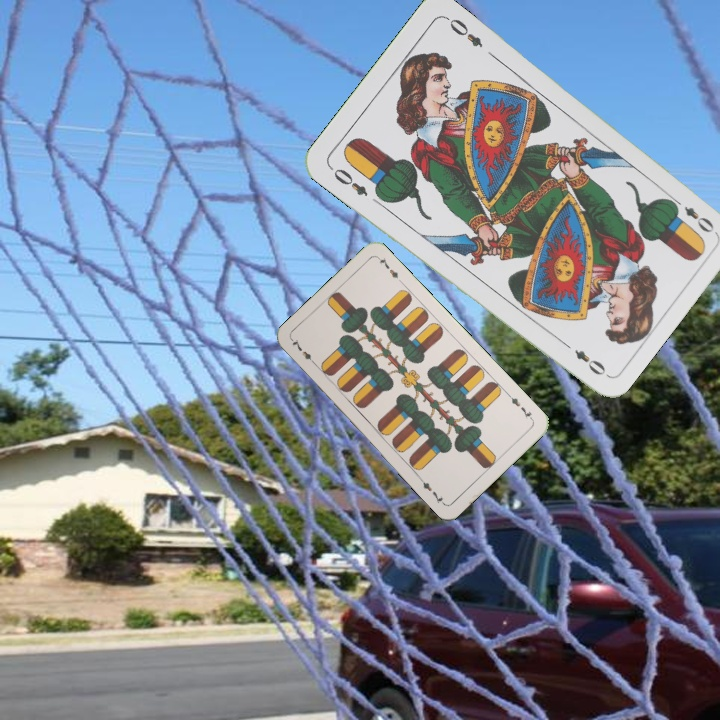E7: (504, 390, 536, 423), (288, 335, 319, 369)
EO: (667, 193, 717, 236), (325, 162, 371, 199)
